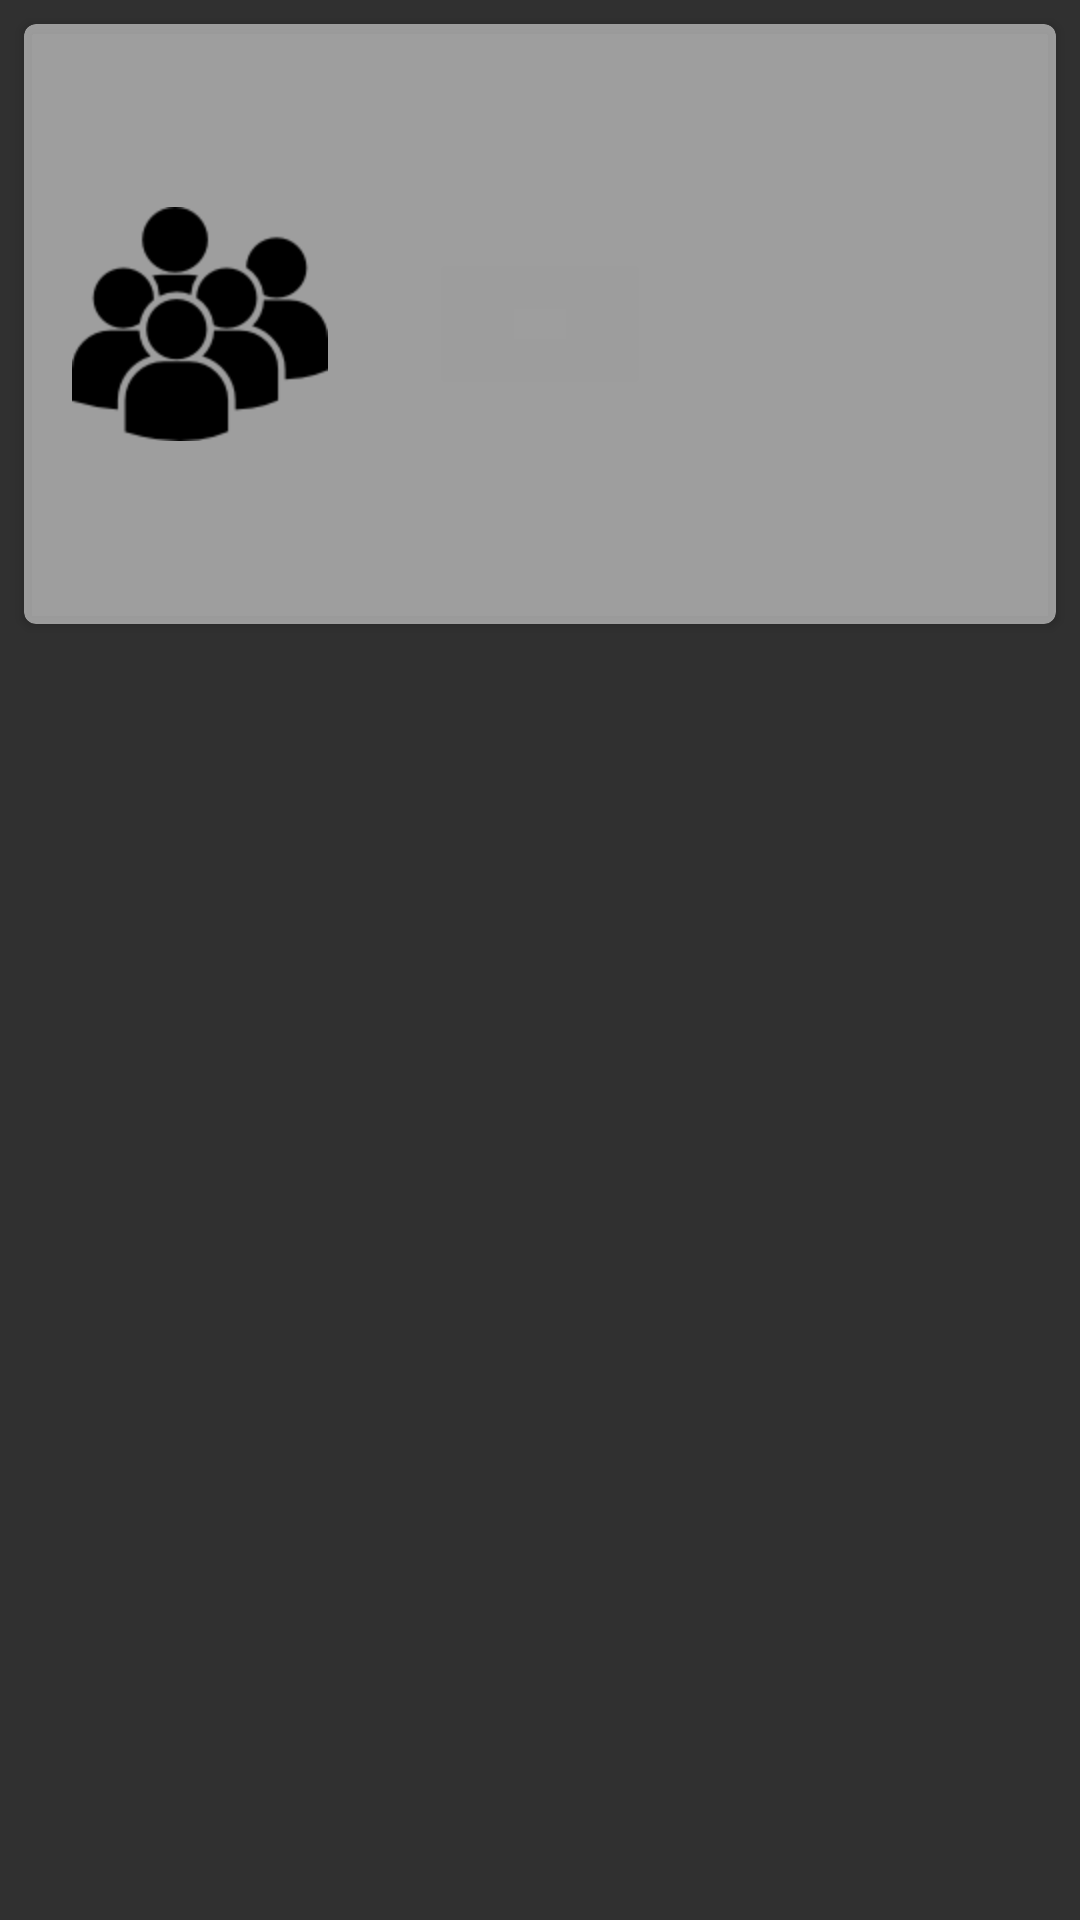

Icon bounding boxes for this 1080 x 1920 phone screenshot, format (x1, y1, x2, y2):
population highest: (72, 207, 328, 441)
